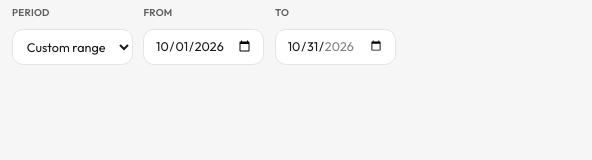
RangeFilter › refuses a start date after the end date
Type "2026-11-15" into the date field labelled "From". click: {"x": 204, "y": 47}
box: [143,29,264,65]
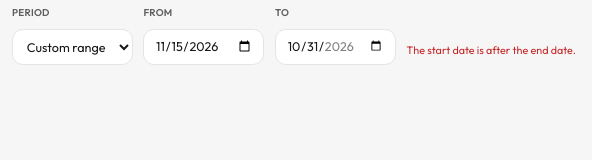
Result: the message shows "start date is after the end date" at [406,43,576,57]
